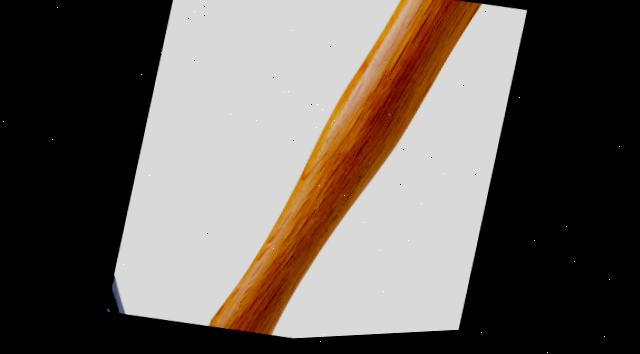hammer: (106, 0, 527, 349)
